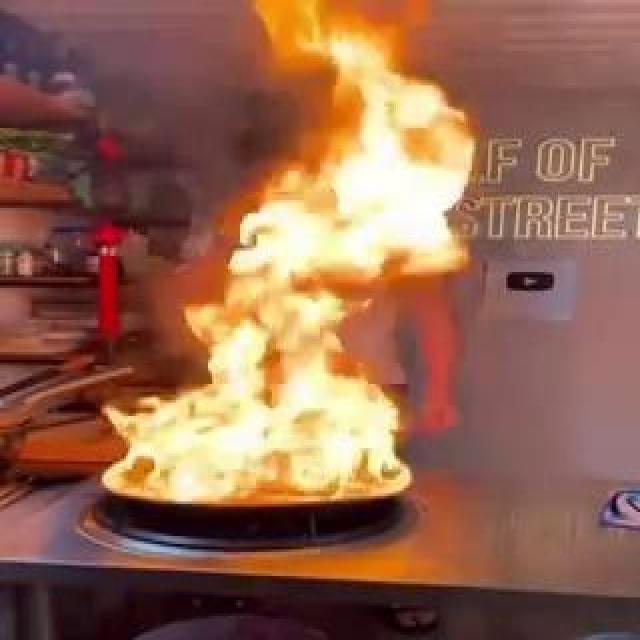Fire: (276, 322, 356, 378)
